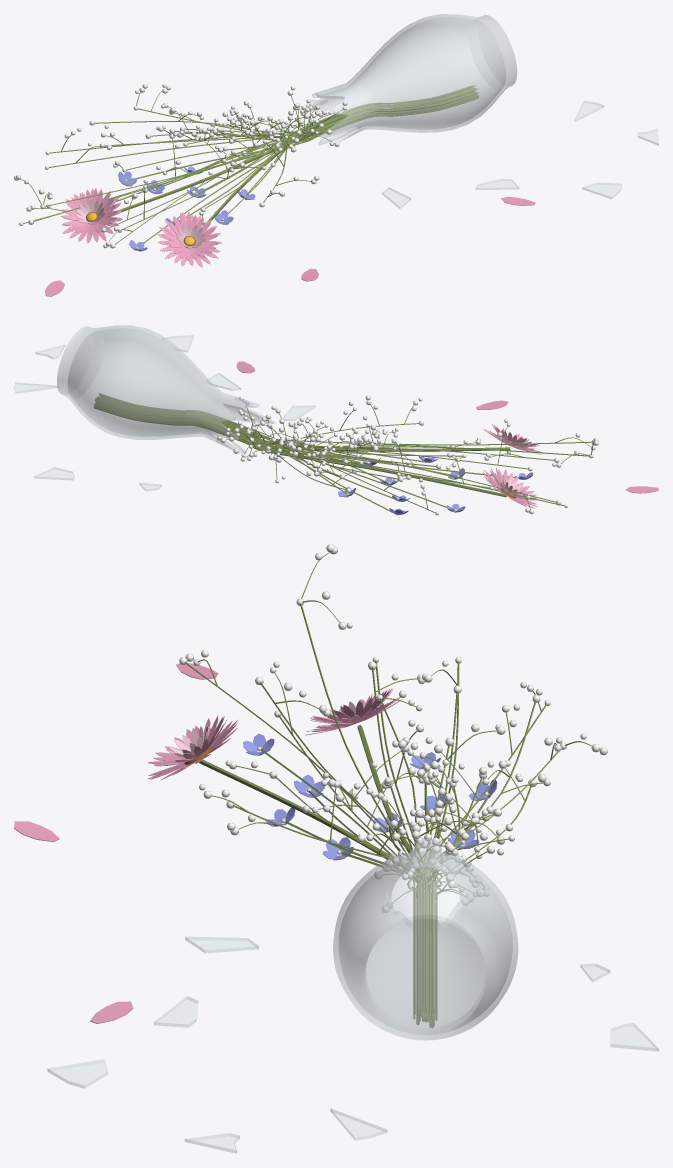
The model's file is A broken vase.glb.
3 views of the same model, one above another, from view 1: azimuth 30°, elevation 25°; view 2: azimuth 150°, elevation 25°; view 3: azimuth 270°, elevation 25° (orthographic). The views are drawn at different scales.
Visible parts, largest first — view 1: Vase_Body, Flower_Stems, Flower_Gypsophila_Blooms, Flower_Gerbera_2, Flower_Gerbera_1, Flower_Blue_Blooms, Vase_Shard_1; view 2: Vase_Body, Flower_Stems, Flower_Gypsophila_Blooms, Flower_Gerbera_1, Flower_Blue_Blooms, Flower_Gerbera_2, Vase_Shard_5, Vase_Shard_1, Vase_Shard_0, Vase_Shard_3, Vase_Shard_4; view 3: Vase_Body, Flower_Stems, Flower_Gypsophila_Blooms, Flower_Blue_Blooms, Flower_Gerbera_2, Flower_Gerbera_1, Vase_Shard_1, Vase_Shard_5, Vase_Shard_4, Vase_Shard_0.
Boxes of the visible parts, x1,y1,x2,y2 form: Vase_Body: (304,14,517,145); Flower_Stems: (20,85,479,247); Flower_Gypsophila_Blooms: (14,83,347,248); Flower_Gerbera_2: (157,211,221,267); Flower_Gerbera_1: (60,188,122,243); Flower_Blue_Blooms: (102,166,255,251); Vase_Shard_1: (582,182,621,199); Vase_Body: (57,325,275,454); Flower_Stems: (93,393,593,515); Flower_Gypsophila_Blooms: (217,395,598,515); Flower_Gerbera_1: (482,468,537,508); Flower_Blue_Blooms: (338,456,532,514); Flower_Gerbera_2: (483,424,543,454); Vase_Shard_5: (34,467,74,480); Vase_Shard_1: (162,335,193,352); Vase_Shard_0: (206,373,241,390); Vase_Shard_3: (14,382,58,393); Vase_Shard_4: (282,405,315,420); Vase_Body: (333,838,518,1040); Flower_Stems: (184,552,591,1028); Flower_Gypsophila_Blooms: (179,544,607,912); Flower_Blue_Blooms: (243,733,497,860); Flower_Gerbera_2: (148,716,238,779); Flower_Gerbera_1: (305,688,402,735); Vase_Shard_1: (47,1059,107,1088); Vase_Shard_5: (610,1023,658,1051); Vase_Shard_4: (185,936,258,953); Vase_Shard_0: (154,996,198,1027).
Size of the model in its own units: 0.9442 by 0.1512 by 0.5244.
